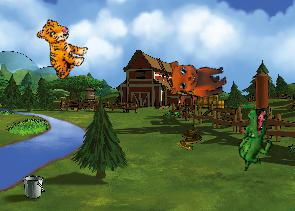bear: (165, 52, 229, 102)
crocodile: (231, 106, 277, 171)
tiger: (24, 15, 94, 83)
